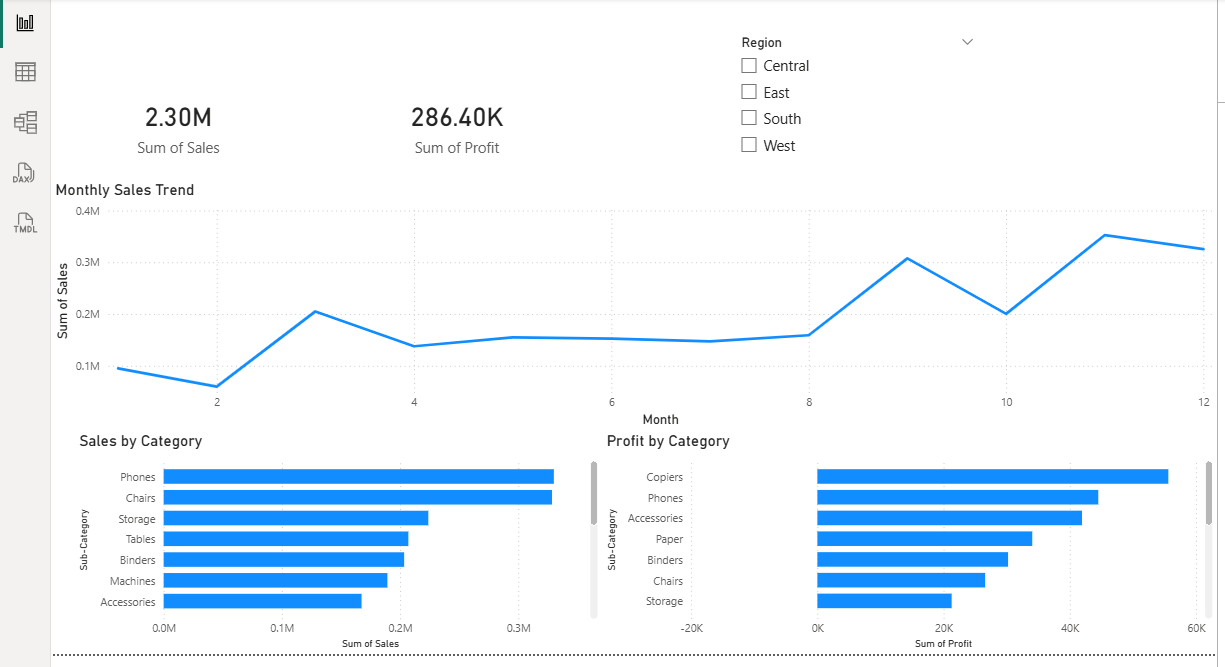

What the dashboard file says about the page in this screenshot:
{"tool":"powerbi","page":{"name":"Page 1","canvas":[1280,720],"ordinal":0},"visuals":[{"type":"card","fields":{"Values":["Sum(final_superstore_dataset.Sales)"]},"box":[0,0,279.9,279.9],"z":0},{"type":"card","fields":{"Values":["Sum(final_superstore_dataset.Profit)"]},"box":[306,0,279.9,279.9],"z":1000},{"type":"slicer","fields":{"Values":["final_superstore_dataset.Region"]},"box":[745.1,35.7,279.9,279.9],"z":2001},{"type":"clusteredBarChart","title":"Sales by Category","fields":{"Category":["final_superstore_dataset.Sub-Category"],"Y":["Sum(final_superstore_dataset.Sales)"]},"box":[26.1,476.2,579.1,244.3],"z":2002},{"type":"lineChart","title":"Monthly Sales Trend","fields":{"Category":["final_superstore_dataset.Month"],"Y":["Sum(final_superstore_dataset.Sales)"]},"box":[0,200.3,1280.3,275.8],"z":2003},{"type":"clusteredBarChart","title":"Profit by Category","fields":{"Category":["final_superstore_dataset.Sub-Category"],"Y":["Sum(final_superstore_dataset.Profit)"]},"box":[605,476,675,244],"z":2004}]}

Visuals, with their boxes on the page's 1280x720 design canvas (x1, y1, x2, y2). These are canvas units, not pixel positions in the 1225x667 screenshot, which may show the page scaled, cropped or inside an application window:
card - Sum(final_superstore_dataset.Sales): locate(0, 0, 280, 280)
card - Sum(final_superstore_dataset.Profit): locate(306, 0, 586, 280)
slicer - final_superstore_dataset.Region: locate(745, 36, 1025, 316)
"Sales by Category" clusteredBarChart: locate(26, 476, 605, 720)
"Monthly Sales Trend" lineChart: locate(0, 200, 1280, 476)
"Profit by Category" clusteredBarChart: locate(605, 476, 1280, 720)
